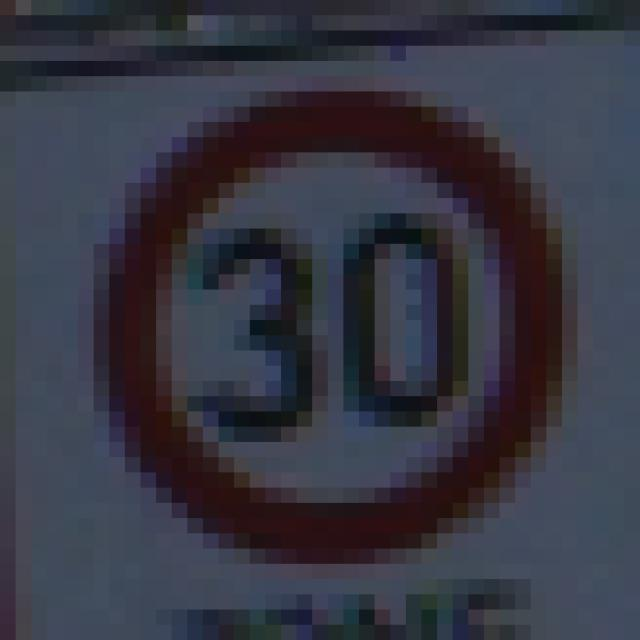Speed Limit -30-: (86, 69, 554, 556)
